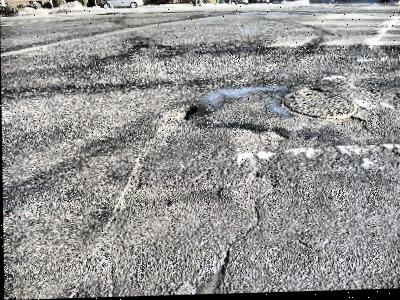pothole: (187, 253, 230, 295), (164, 104, 197, 123)
